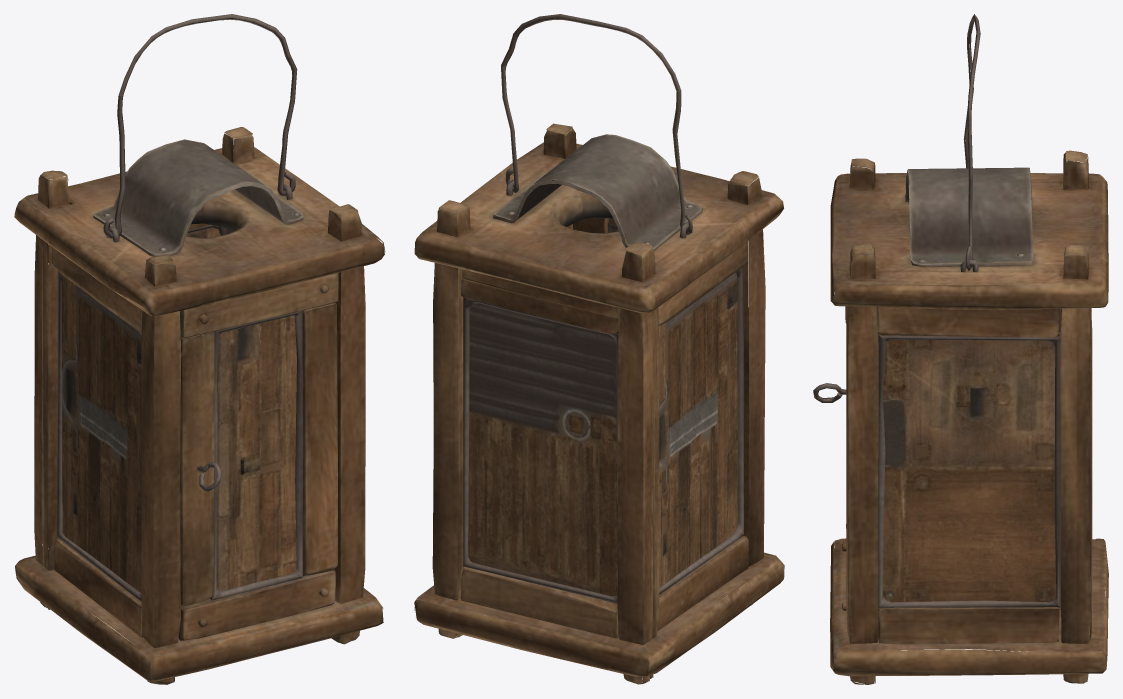
3 renders of one model, left to right at view 1: azimuth 30°, elevation 25°; view 2: azimuth 150°, elevation 25°; view 3: azimuth 270°, elevation 25°, orthographic.
Bounding box in the file's own units: 0.221 × 0.5289 × 0.2346.
1 material, 1 textured.
